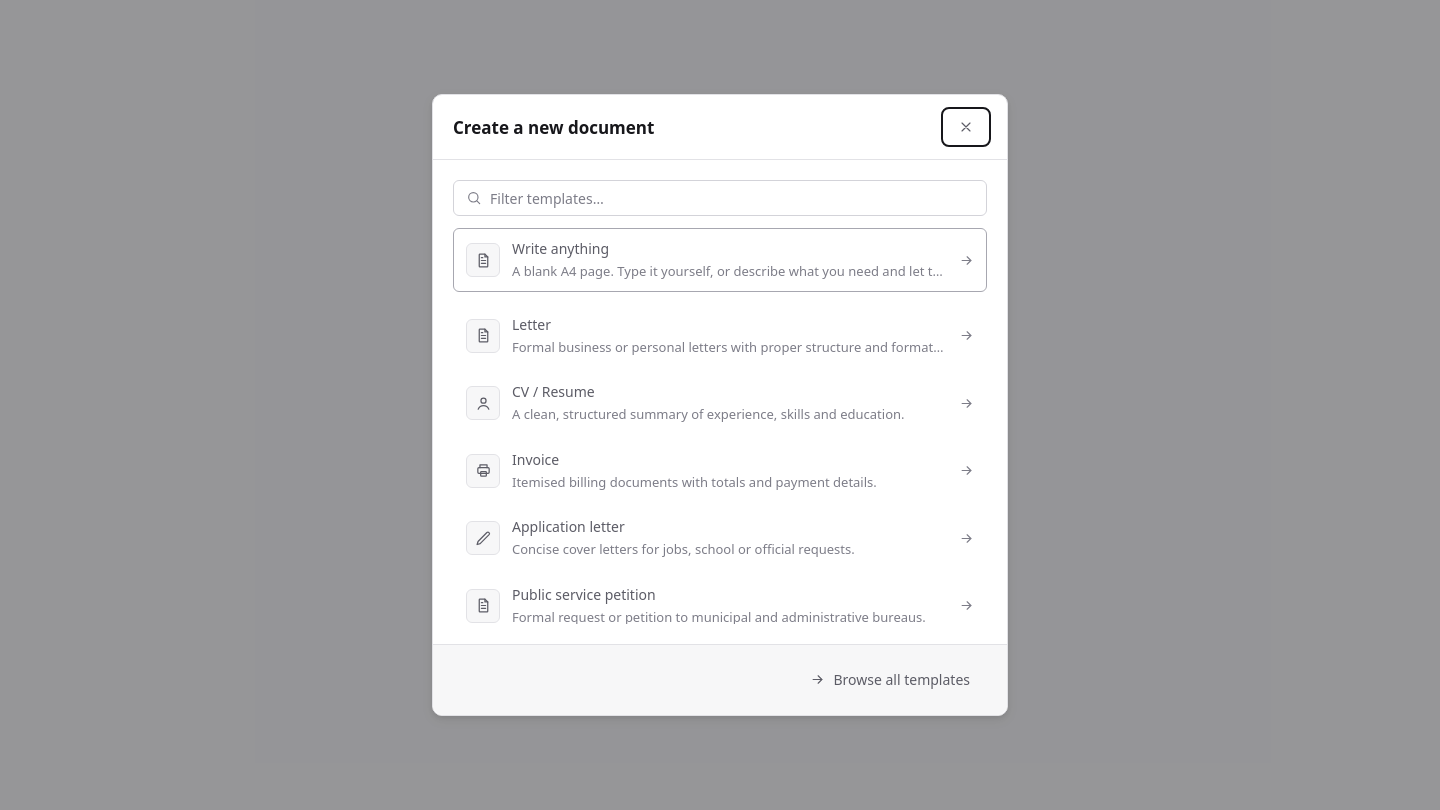
Test: CreateDocumentDialog: write anything › keeps it visible while filtering, even when nothing else matches
Expected: the button with test id "create-dialog-custom" is shown, [453, 228, 987, 292]
In the search field with placeholder "Filter templates…": [734, 198] box [490, 187, 978, 210], type "zzzz-no-such-template"
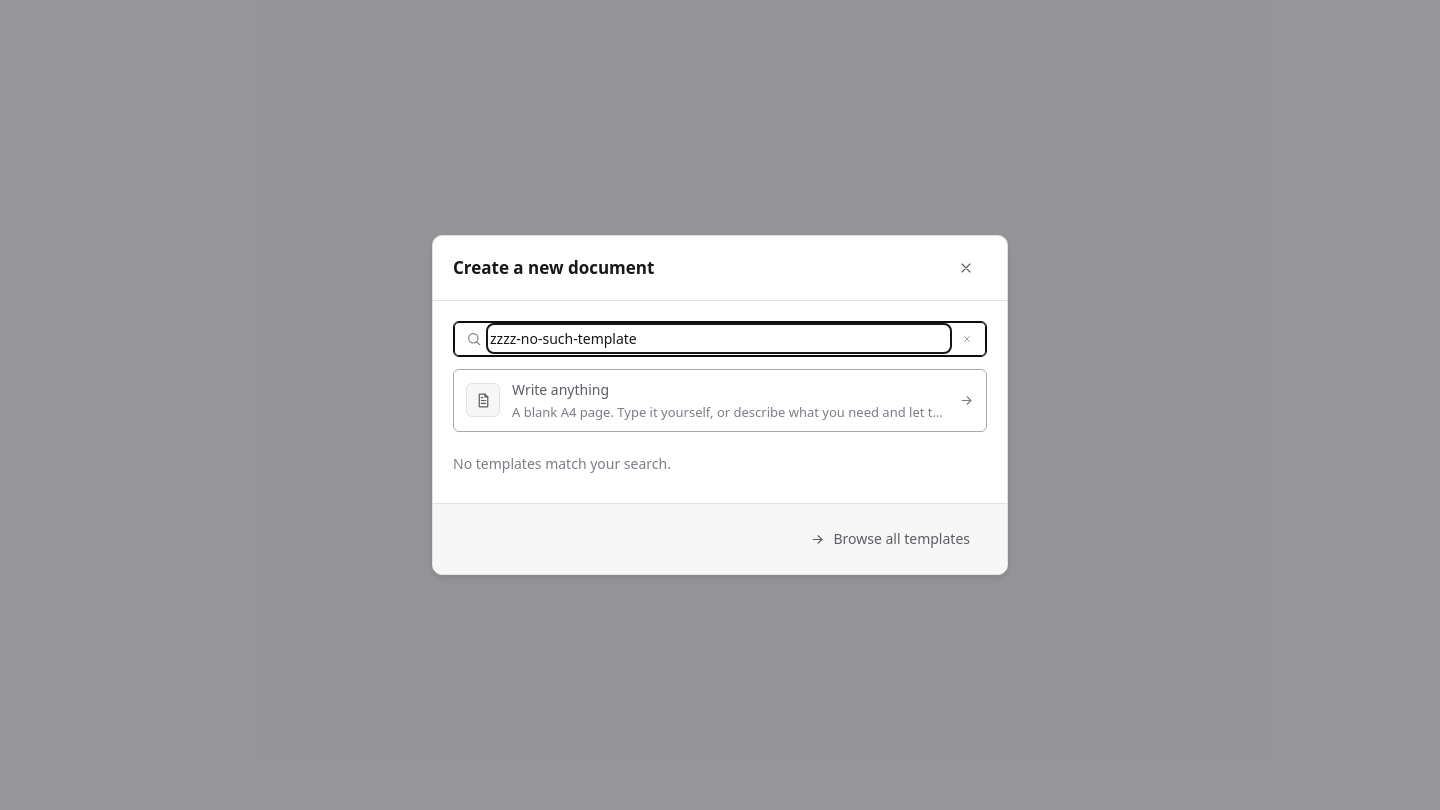
Expected: the button with test id "create-dialog-custom" is shown, [453, 369, 987, 432]
Expected: the text "No templates match your search." is shown, [453, 454, 671, 473]
